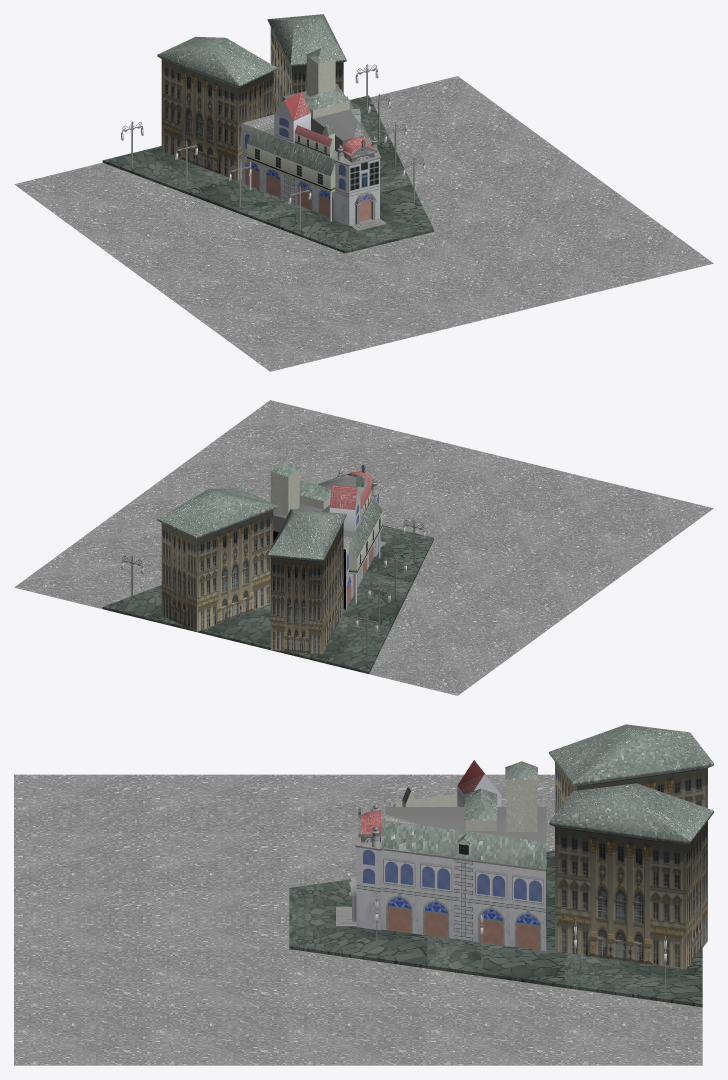
The model's file is akemihome_out.fbx.
3 views of the same model, one above another, from view 1: azimuth 30°, elevation 25°; view 2: azimuth 150°, elevation 25°; view 3: azimuth 270°, elevation 25° (orthographic). The views are drawn at different scales.
Visible parts, largest first — view 1: asphalt, akemihome_out, streetlight; view 2: asphalt, akemihome_out, streetlight; view 3: asphalt, akemihome_out, streetlight.
Part boxes in pixels (x1,y1,x2,y2): asphalt: (14,76,713,371); akemihome_out: (102,14,433,253); streetlight: (121,64,425,230); asphalt: (14,400,713,695); akemihome_out: (102,461,433,673); streetlight: (121,520,425,658); asphalt: (14,774,702,1065); akemihome_out: (289,724,713,1007); streetlight: (375,894,666,994).
Size of the model in its own units: 1000 by 274 by 1017.
